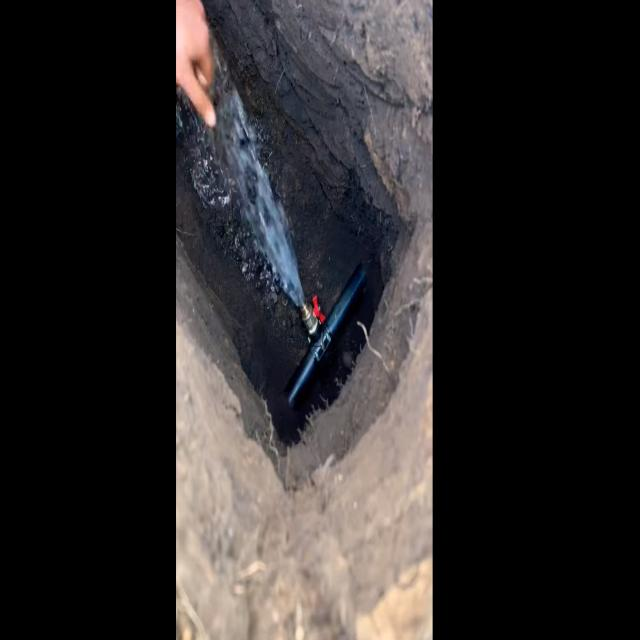leak: (214, 58, 306, 308)
